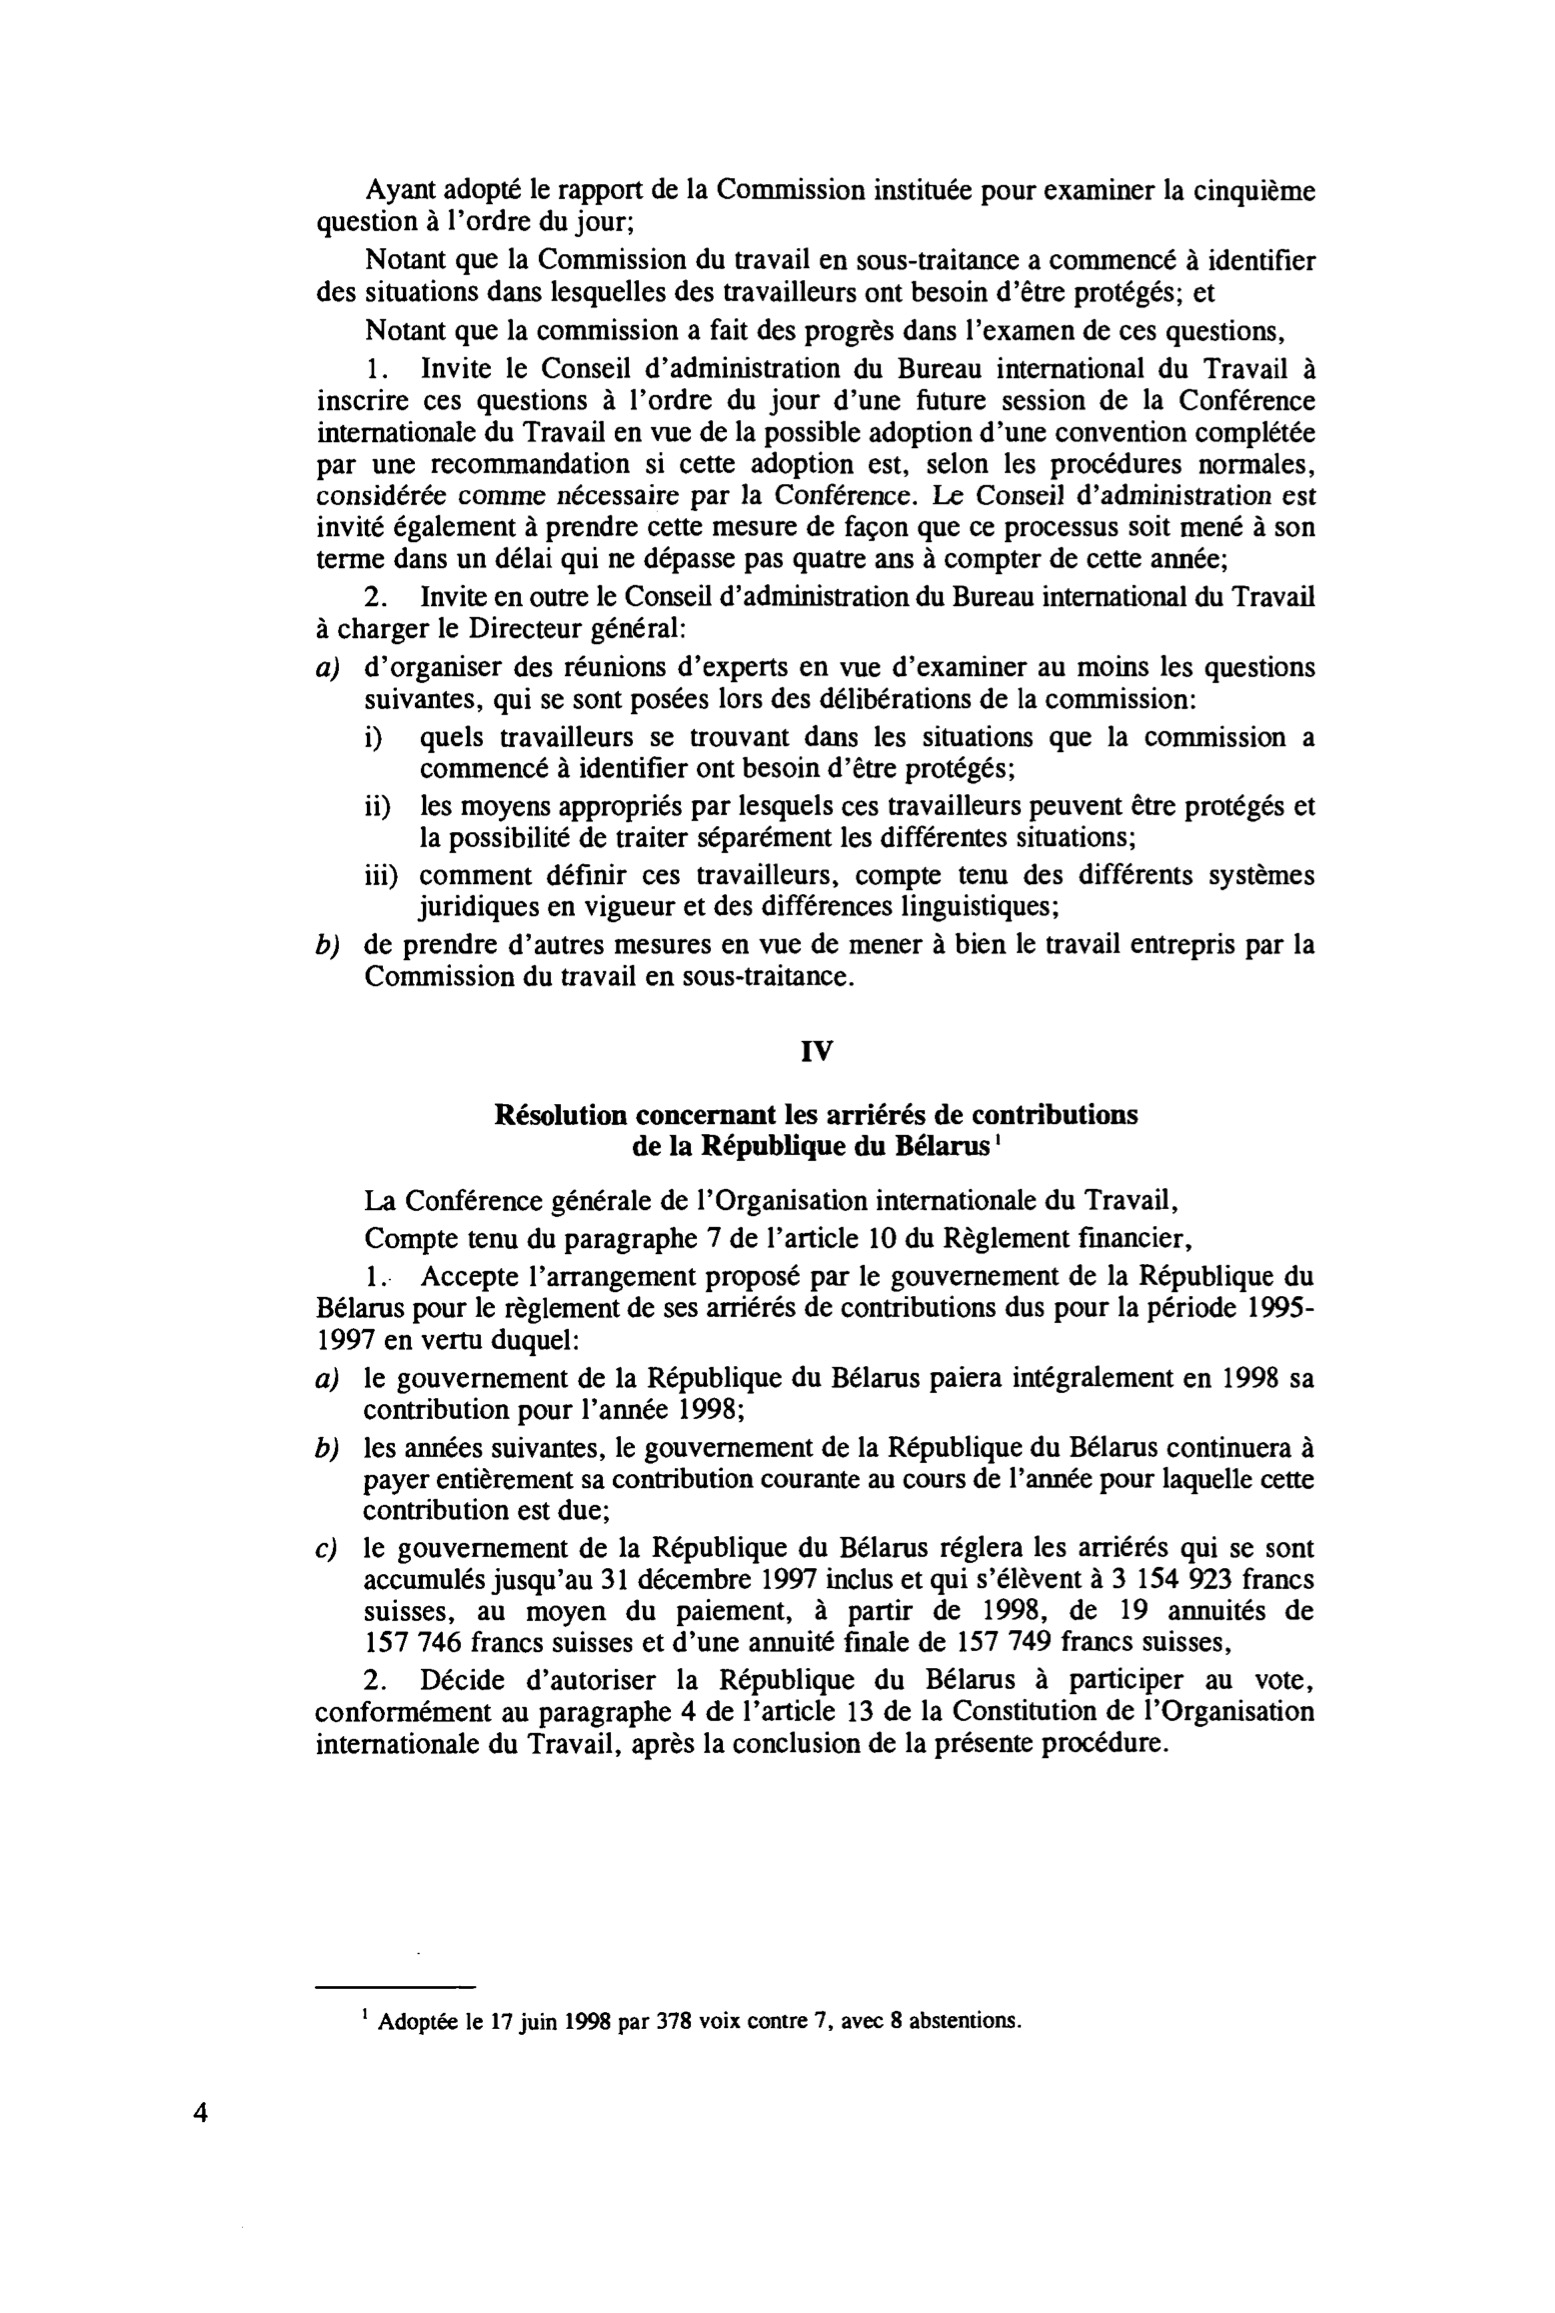MainZone-Head: (485, 1093, 1153, 1165), (794, 1032, 840, 1072)
MainZone-ListItem: (300, 649, 1326, 935), (304, 350, 1325, 577), (300, 1529, 1328, 1659), (301, 1660, 1327, 1769), (301, 1258, 1323, 1358), (300, 1430, 1323, 1528), (305, 927, 1331, 999), (301, 577, 1325, 649), (300, 1359, 1324, 1429)
MainZone-P: (301, 165, 1322, 242), (300, 242, 1321, 311), (311, 1180, 1194, 1228), (305, 310, 1314, 350), (318, 1220, 1202, 1258)
MarginTextZone-Notes: (344, 1990, 1037, 2057)
